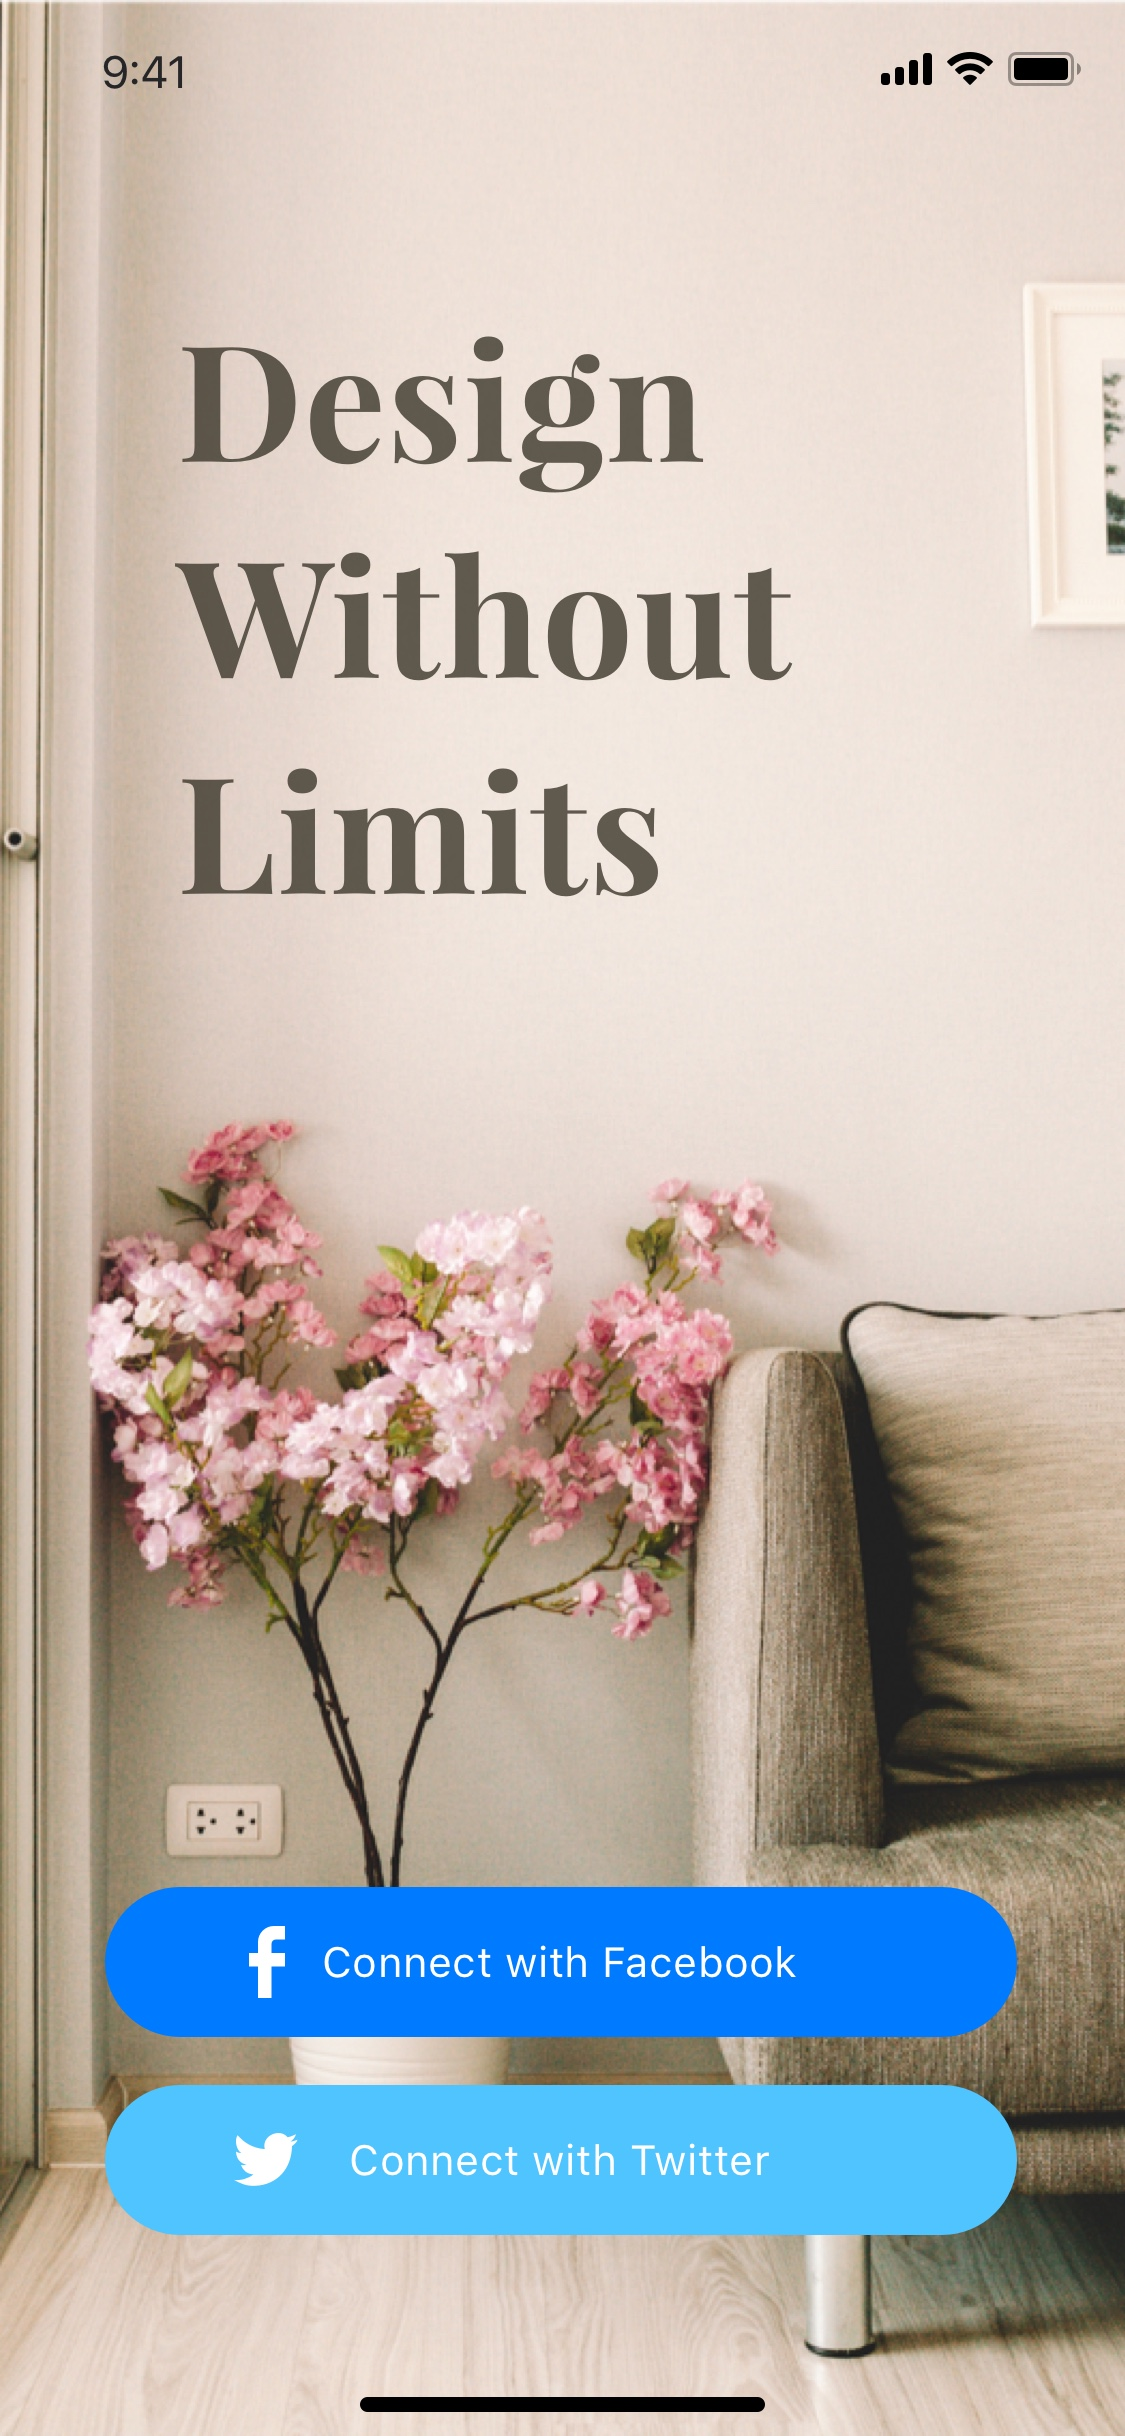BackgroundImage: (2, 2, 1125, 2436)
Text: (172, 336, 792, 898)
TextButton: (106, 2083, 1019, 2236), (106, 1886, 1018, 2038)
UpperTaskBar: (104, 51, 1081, 92)
